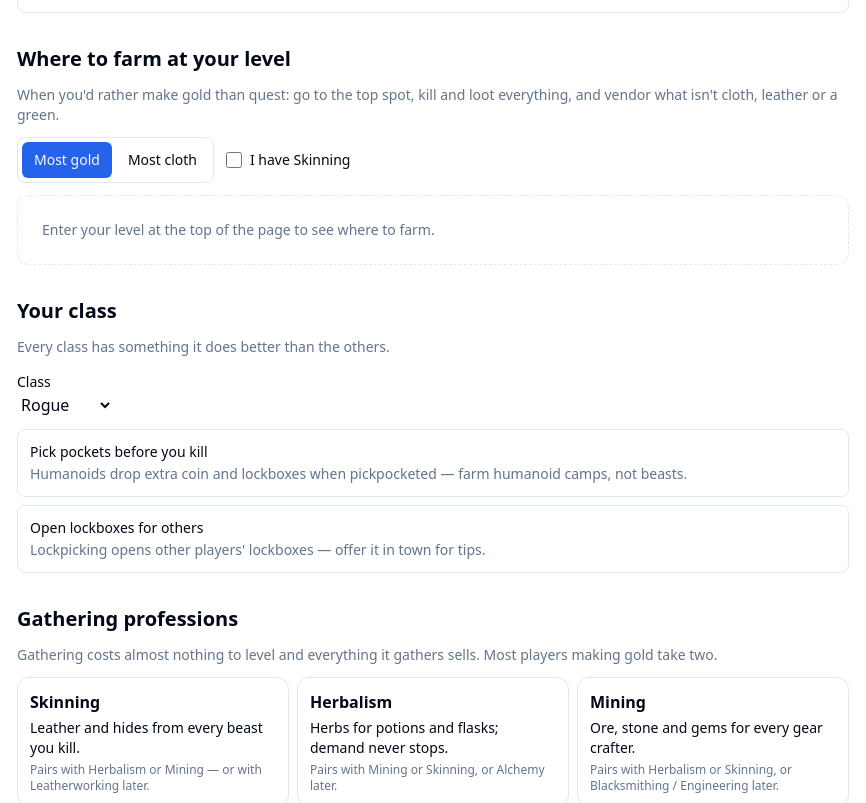
Scenario: Making gold page › shows tips for the saved class, or every class
(page scrolled)
Expected: the text "Pick pockets before you kill" is shown, x1=30 y1=442 x2=208 y2=461
Expected: the text "Sell portals" is not shown
Select "All classes" in the dropdown labelled "Class": [65, 405] box x1=17 y1=393 x2=113 y2=417
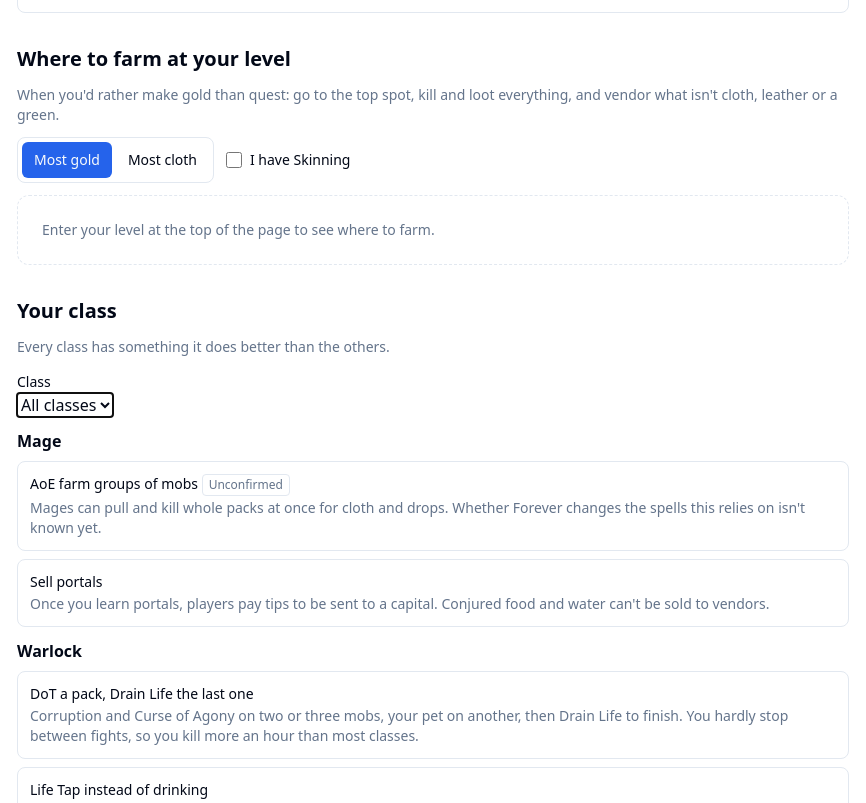
Expected: the text "Sell portals" is shown, x1=30 y1=572 x2=102 y2=591
